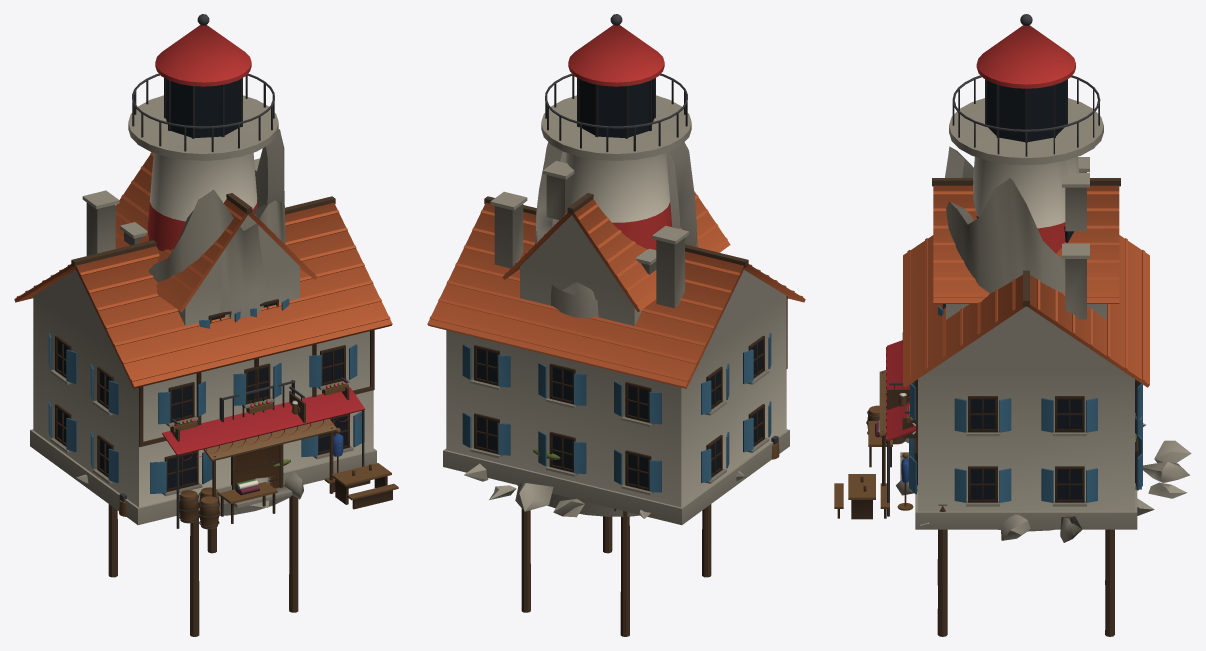
File: pueblo.glb
3 views of the same model, side by side, from view 1: azimuth 30°, elevation 25°; view 2: azimuth 150°, elevation 25°; view 3: azimuth 270°, elevation 25° (orthographic). The views are drawn at different scales.
Visible parts, largest first — view 1: taberna_malla, faro_malla, torre_malla, casa_c_malla, sastreria_malla, muelle_malla, armeria_malla; view 2: taberna_malla, faro_malla, casa_c_malla, torre_malla, muelle_malla; view 3: taberna_malla, faro_malla, torre_malla, casa_c_malla, sastreria_malla, muelle_malla, armeria_malla.
Boxes of the visible parts, x1,y1,x2,y2 form: taberna_malla: (14,158,398,529); faro_malla: (128,14,278,250); torre_malla: (76,129,303,518); casa_c_malla: (115,152,317,422); sastreria_malla: (162,387,364,528); muelle_malla: (108,495,298,636); armeria_malla: (119,377,349,516); taberna_malla: (427,191,805,524); faro_malla: (541,14,691,249); casa_c_malla: (502,160,730,325); torre_malla: (464,142,744,518); muelle_malla: (521,504,711,636); taberna_malla: (834,157,1149,529); faro_malla: (949,14,1103,253); torre_malla: (896,146,1191,542); casa_c_malla: (932,172,1120,319); sastreria_malla: (868,332,915,516); muelle_malla: (937,529,1114,636); armeria_malla: (879,370,946,511).
Size of the model in its own units: 10.67 by 21.2 by 11.53.
